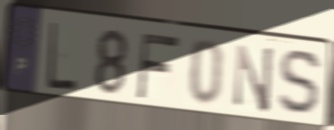0: (186, 36, 227, 109)
8: (93, 27, 130, 98)
F: (134, 30, 183, 101)
L: (46, 19, 79, 93)
N: (232, 41, 277, 116)
S: (274, 47, 327, 121)
